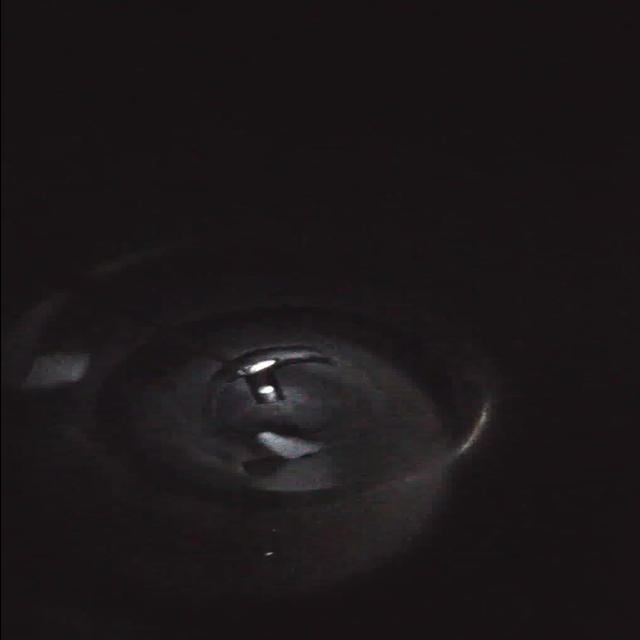impurity: (248, 428, 334, 463)
